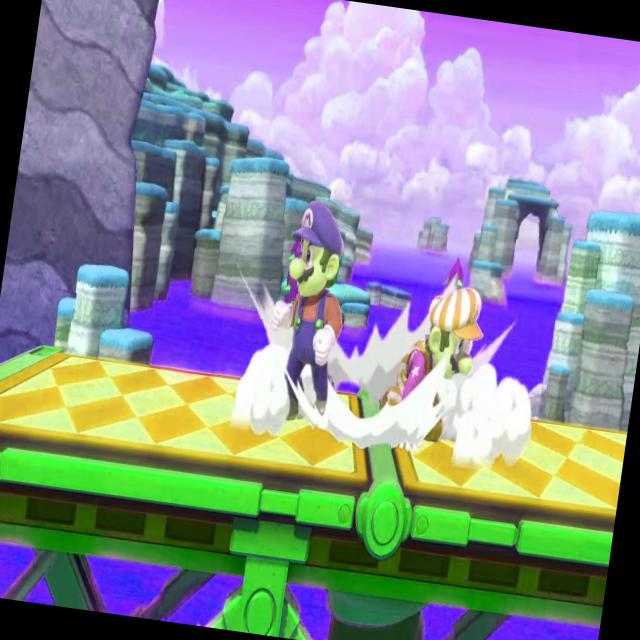Mario: (245, 186, 362, 434), (370, 272, 492, 463)
